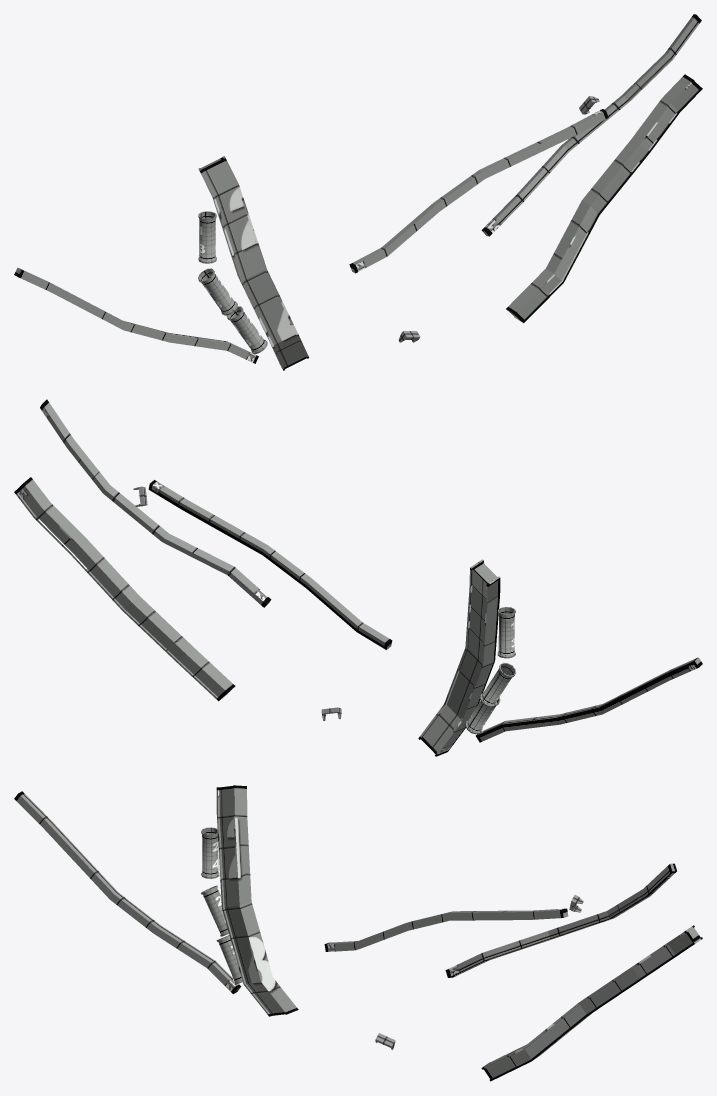
File: gully_bridge01_middle.glb
The picture shows the model from 3 angles, top to bottom: view 1: azimuth 30°, elevation 25°; view 2: azimuth 150°, elevation 25°; view 3: azimuth 330°, elevation 25°; orthographic projection.
Size of the model in its own units: 770 by 280 by 67.24.
1 material, 1 textured.
